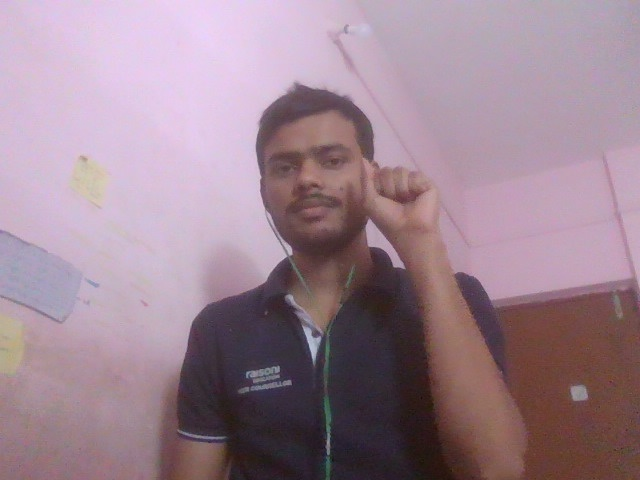Yes: (332, 129, 488, 308)
